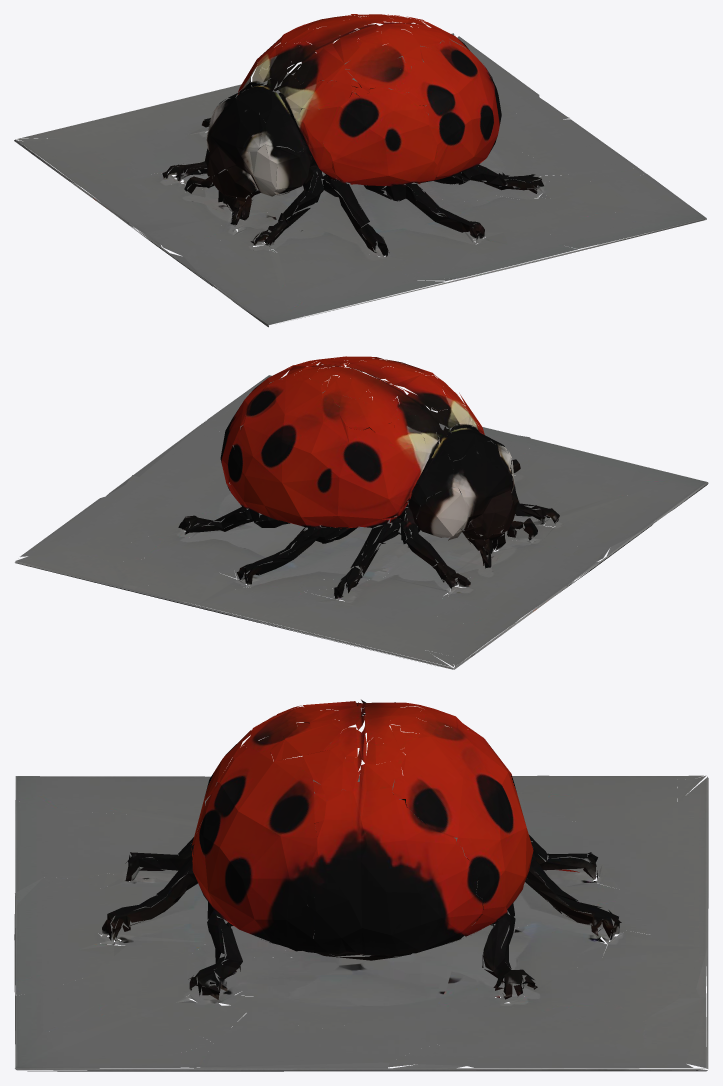
Rendered from ladybug.glb.
The picture shows the model from 3 angles, top to bottom: view 1: azimuth 30°, elevation 25°; view 2: azimuth 150°, elevation 25°; view 3: azimuth 270°, elevation 25°; orthographic projection. The views are drawn at different scales.
Visible parts, largest first — view 1: textured.obj; view 2: textured.obj; view 3: textured.obj.
Boxes of the visible parts, x1=… form: textured.obj: x1=14, y1=14, x2=706, y2=327; textured.obj: x1=15, y1=356, x2=708, y2=669; textured.obj: x1=14, y1=699, x2=708, y2=1071.
Bounding box in the file's own units: 0.007 × 0.00234 × 0.00701.
1 material, 1 textured.
